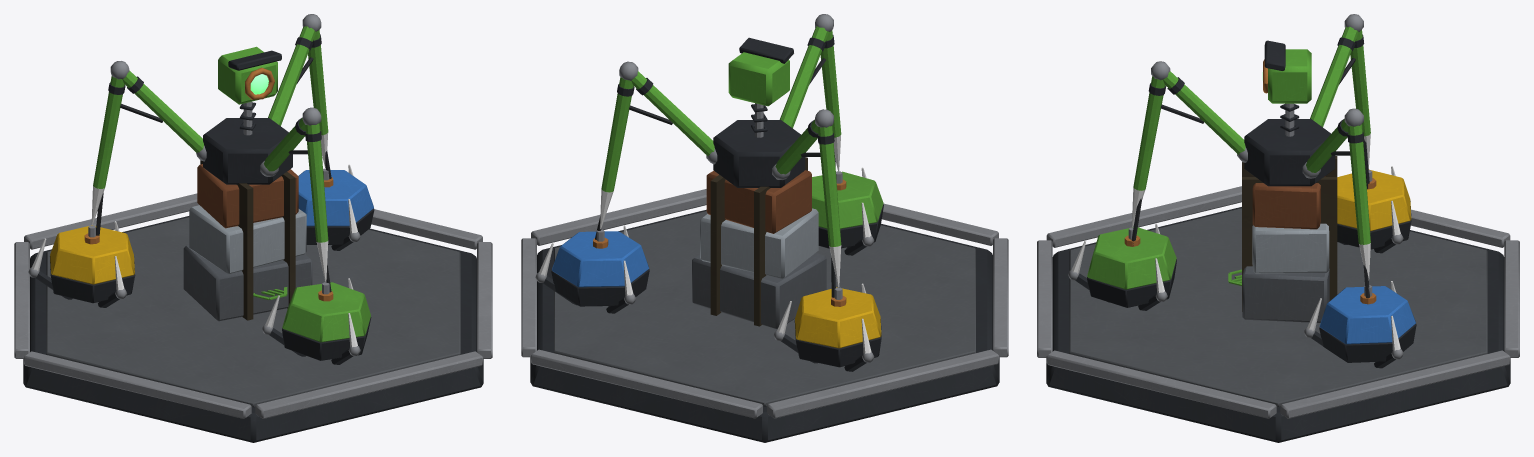
The model's file is scuttler_cradle.glb.
3 renders of one model, left to right at view 1: azimuth 30°, elevation 25°; view 2: azimuth 150°, elevation 25°; view 3: azimuth 270°, elevation 25°, orthographic.
Parts seen in each view (by area): view 1: scuttler_cradle.001; view 2: scuttler_cradle.001; view 3: scuttler_cradle.001.
Boxes of the visible parts, bbox=[...] form: scuttler_cradle.001: bbox=[14, 14, 492, 442]; scuttler_cradle.001: bbox=[521, 14, 1008, 442]; scuttler_cradle.001: bbox=[1037, 14, 1519, 442].
Size of what is drawn, in the model's own units: 4.86 by 2.75 by 4.3.
Materials: 17 (16 with a texture image).
